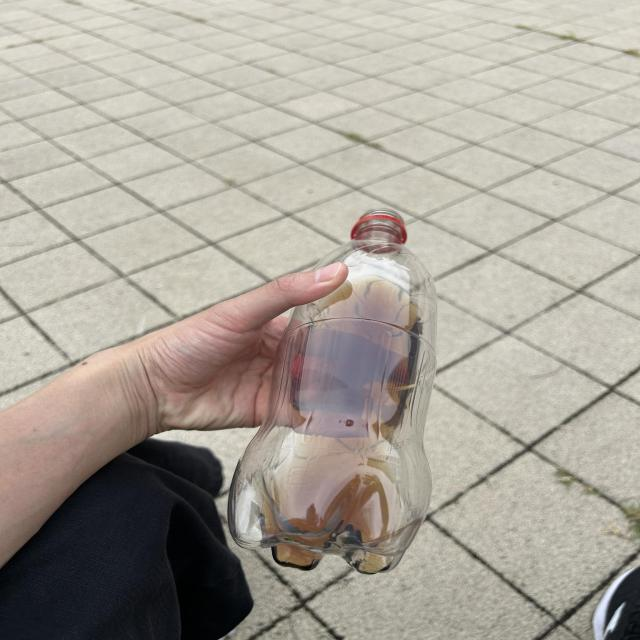low: (228, 208, 437, 574)
